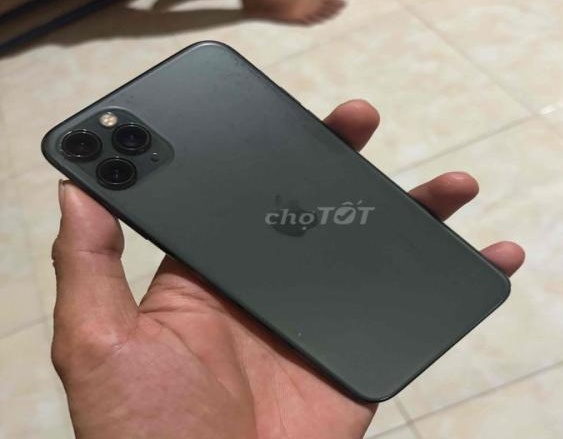scratch: (211, 54, 355, 150), (372, 221, 457, 281), (91, 88, 152, 121), (99, 185, 137, 218), (51, 136, 89, 168), (285, 317, 322, 346)
